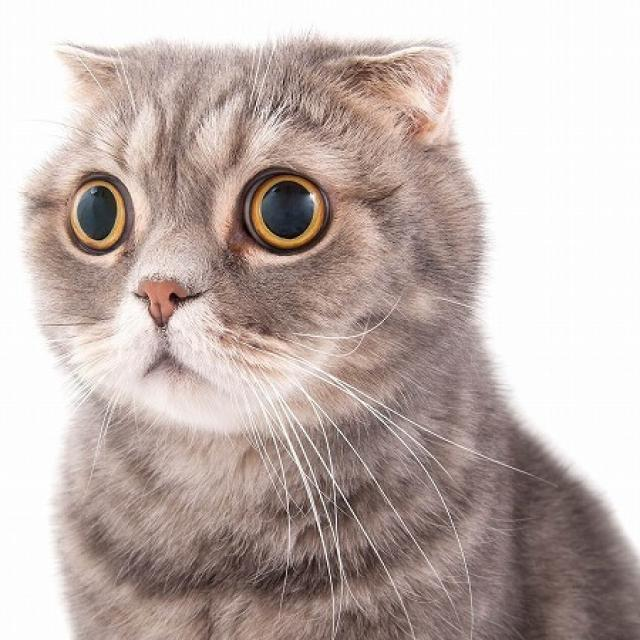Scottish Fold: (13, 28, 640, 640)
